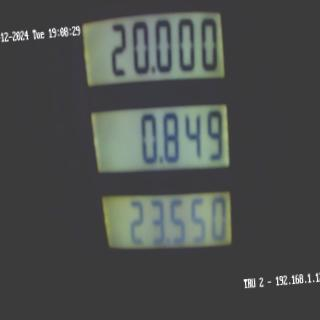screen: (77, 0, 252, 293)
